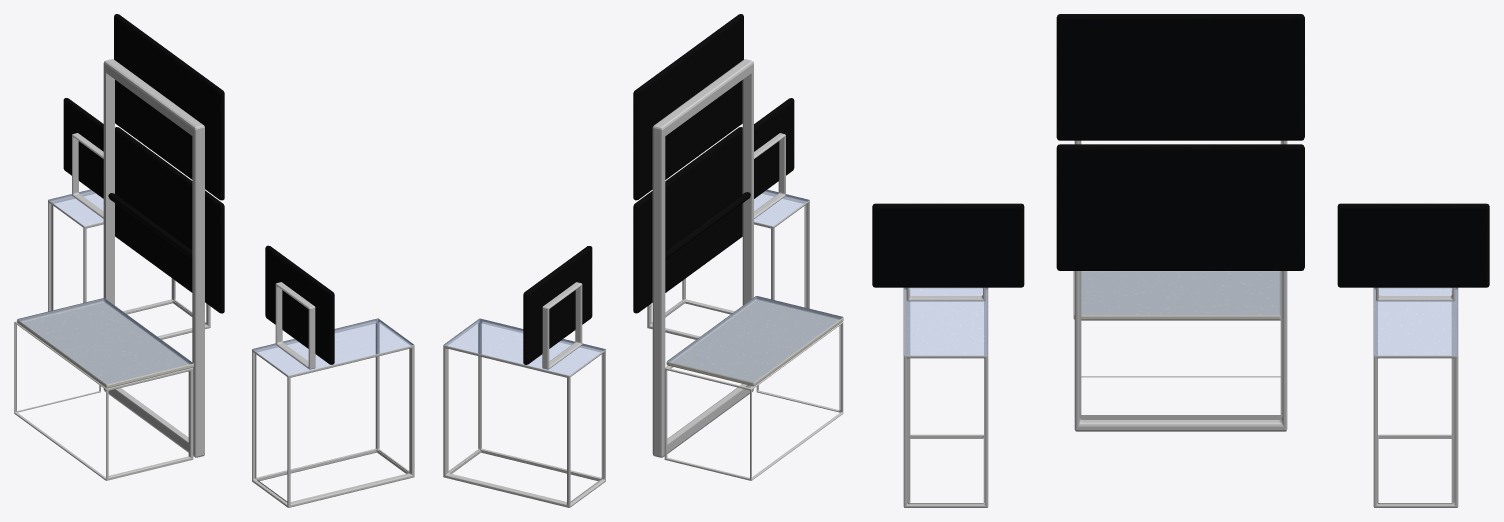
Rendered from doxa.glb.
The picture shows the model from 3 angles, left to right: view 1: azimuth 30°, elevation 25°; view 2: azimuth 150°, elevation 25°; view 3: azimuth 270°, elevation 25°; orthographic projection. The views are drawn at different scales.
Visible parts, largest first — view 1: DOXA - Station structure - Web, DOXA - Main lower display - Web, DOXA - Main upper display - Web, DOXA - Main frame - Web, DOXA - Worktops - Web, DOXA - Satellite displays - Web, DOXA - Workstation frames - Web, DOXA - Satellite stands - Web, DOXA - Center support - Web; view 2: DOXA - Station structure - Web, DOXA - Main lower display - Web, DOXA - Main frame - Web, DOXA - Main upper display - Web, DOXA - Worktops - Web, DOXA - Satellite displays - Web, DOXA - Workstation frames - Web, DOXA - Satellite stands - Web, DOXA - Center support - Web; view 3: DOXA - Main lower display - Web, DOXA - Main upper display - Web, DOXA - Satellite displays - Web, DOXA - Station structure - Web, DOXA - Worktops - Web, DOXA - Main frame - Web, DOXA - Satellite stands - Web.
Boxes of the visible parts, <box> form: DOXA - Station structure - Web: <box>48,189,414,507</box>; DOXA - Main lower display - Web: <box>115,127,224,313</box>; DOXA - Main upper display - Web: <box>114,14,224,200</box>; DOXA - Main frame - Web: <box>103,59,204,457</box>; DOXA - Worktops - Web: <box>17,298,193,388</box>; DOXA - Satellite displays - Web: <box>63,98,334,364</box>; DOXA - Workstation frames - Web: <box>14,321,193,480</box>; DOXA - Satellite stands - Web: <box>72,133,315,369</box>; DOXA - Center support - Web: <box>108,193,192,259</box>; DOXA - Station structure - Web: <box>443,189,809,507</box>; DOXA - Main lower display - Web: <box>633,127,742,313</box>; DOXA - Main frame - Web: <box>652,59,753,457</box>; DOXA - Main upper display - Web: <box>633,14,743,200</box>; DOXA - Worktops - Web: <box>666,296,843,386</box>; DOXA - Satellite displays - Web: <box>523,98,794,364</box>; DOXA - Workstation frames - Web: <box>664,321,843,480</box>; DOXA - Satellite stands - Web: <box>542,133,785,369</box>; DOXA - Center support - Web: <box>665,192,750,259</box>; DOXA - Main lower display - Web: <box>1056,144,1304,270</box>; DOXA - Main upper display - Web: <box>1056,14,1304,140</box>; DOXA - Satellite displays - Web: <box>872,203,1489,287</box>; DOXA - Station structure - Web: <box>903,287,1458,507</box>; DOXA - Worktops - Web: <box>1073,271,1280,319</box>; DOXA - Main frame - Web: <box>1074,140,1287,431</box>; DOXA - Satellite stands - Web: <box>906,287,1455,301</box>.
Size of the model in its own units: 1.01 by 1.52 by 2.
5 materials, 3 textured.
